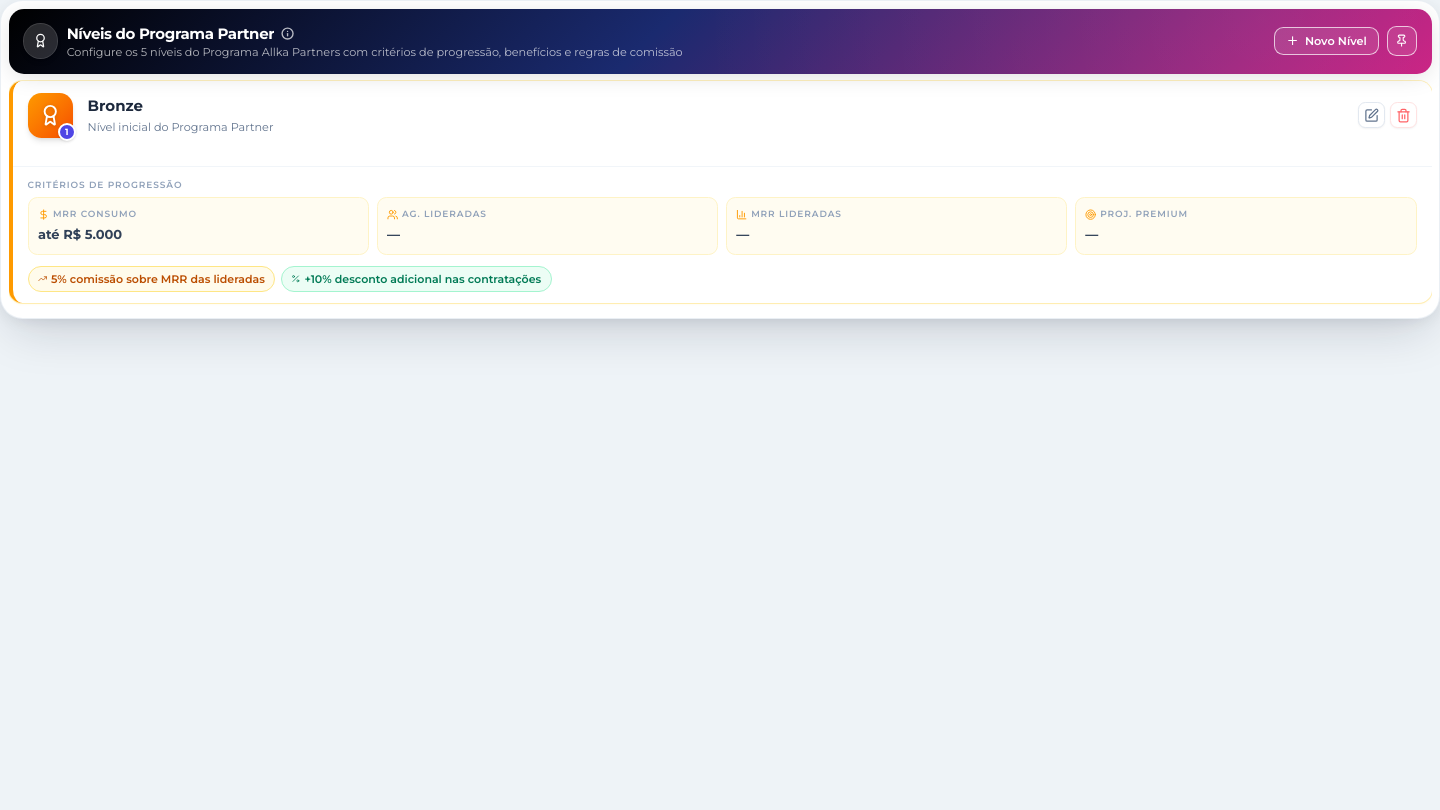
Test case: Admin > Níveis — exclusão de nível (confirmação dupla) › Escape não exclui e fecha o diálogo
Click the button named "excluir nível": (1403, 115) [1390, 102, 1417, 128]
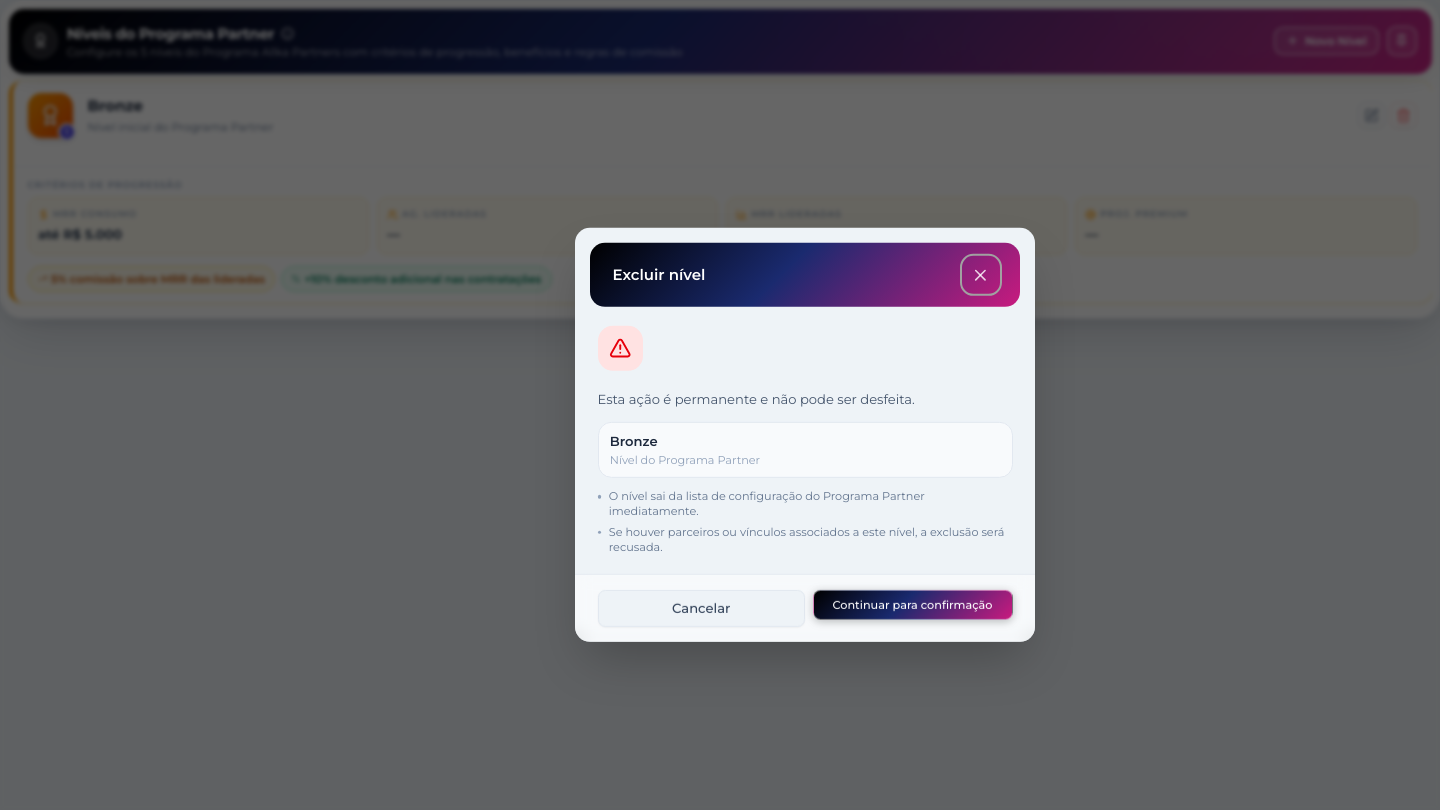
Press Escape
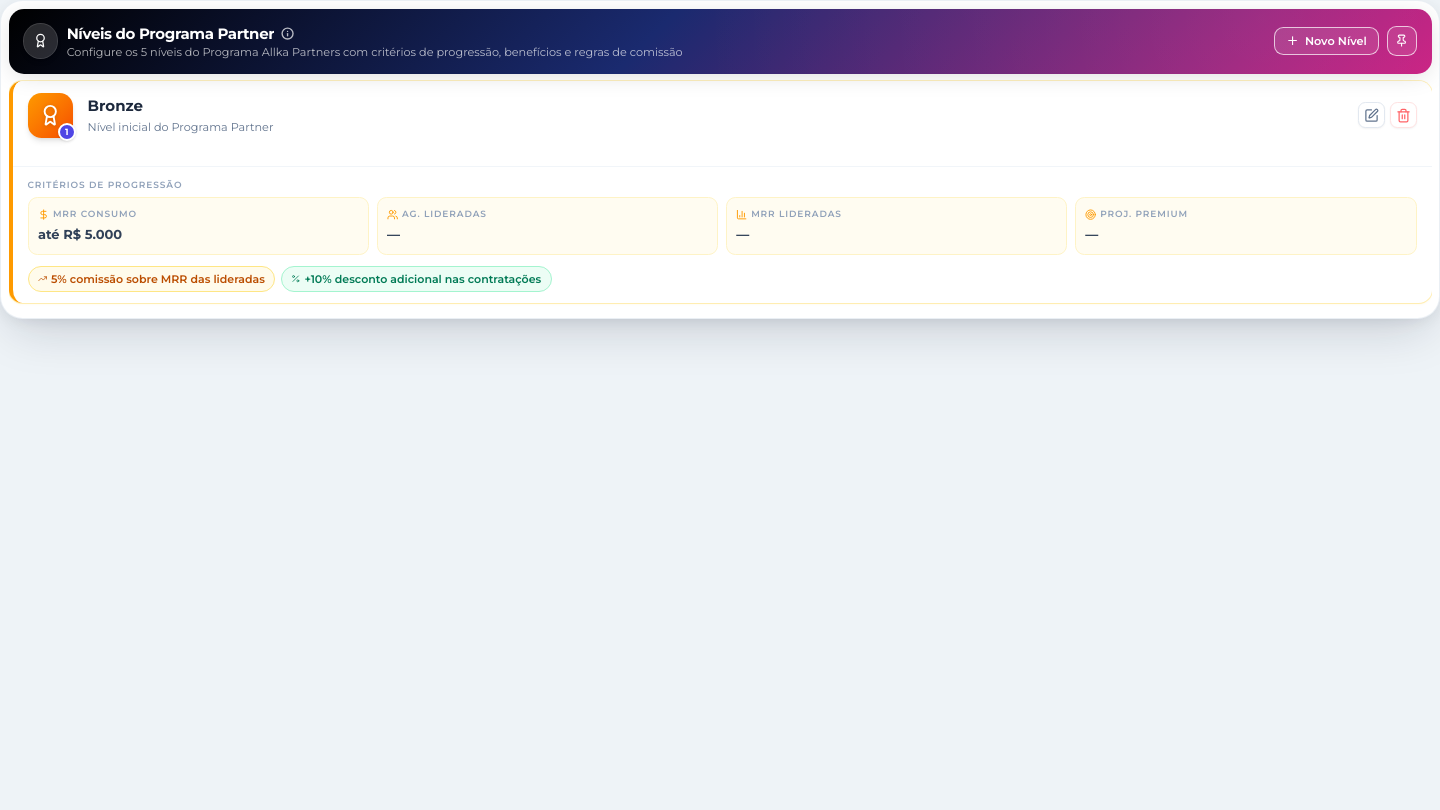
Check: the text "Esta ação é permanente e não pode ser desfeita." is gone
